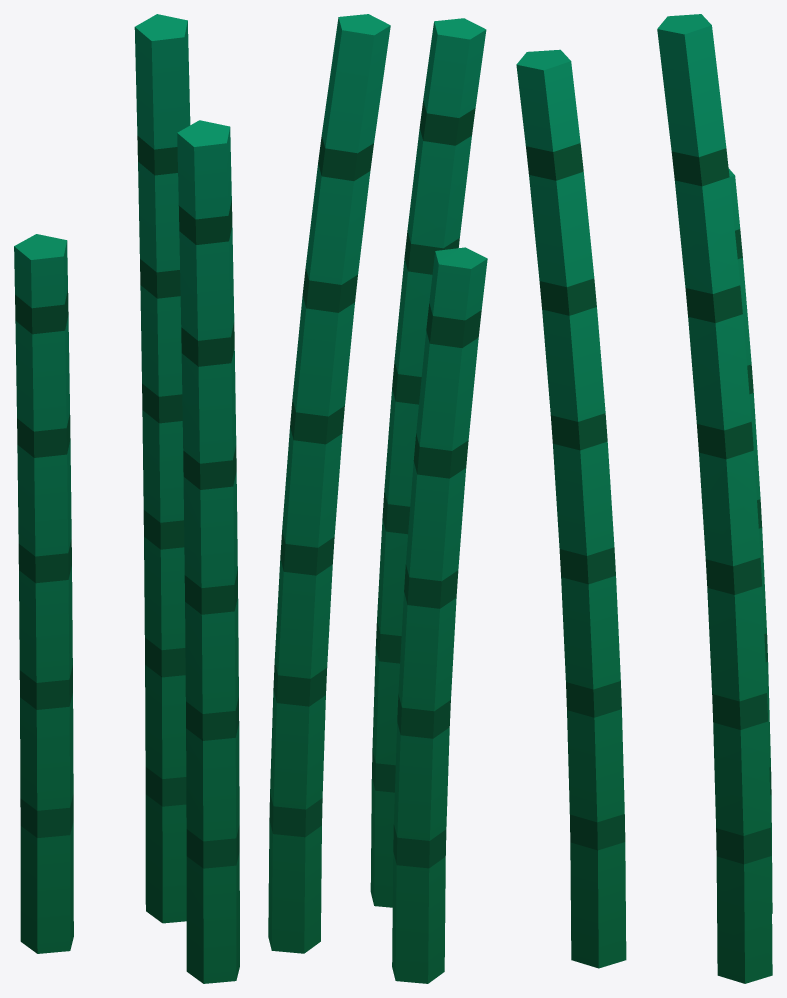
Rendered from Bamboo2.fbx.
3 views of the same model, side by side, from view 1: azimuth 30°, elevation 25°; view 2: azimuth 150°, elevation 25°; view 3: azimuth 270°, elevation 25° (orthographic). The views are drawn at different scales.
Visible parts, largest first — view 1: Cube.023; view 2: Cube.023; view 3: Cube.023.
Part boxes in pixels (x1,y1,x2,y2): Cube.023: (14, 14, 239, 983); Cube.023: (268, 14, 487, 983); Cube.023: (516, 14, 772, 983).
Bounding box in the file's own units: 81.09 × 365 × 91.13.
